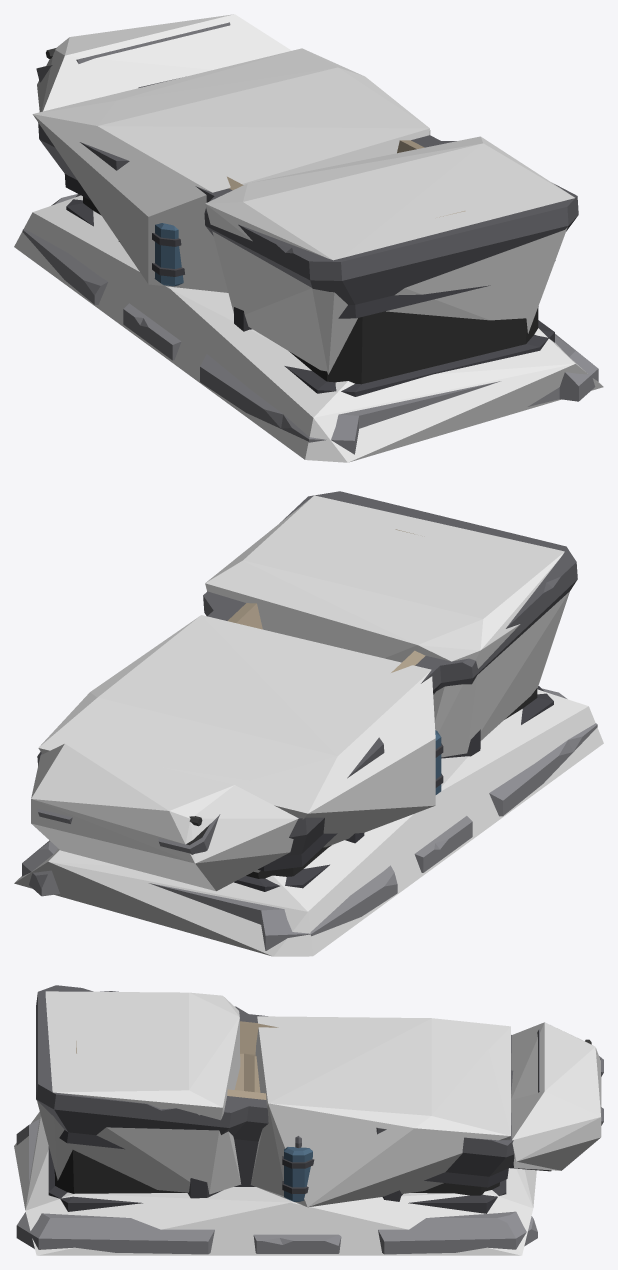
File: SM_Prop_CryoBed_01.fbx
3 views of the same model, one above another, from view 1: azimuth 30°, elevation 25°; view 2: azimuth 150°, elevation 25°; view 3: azimuth 270°, elevation 25° (orthographic). The views are drawn at different scales.
Parts seen in each view (by area): view 1: SM_Prop_CryoBed_01_ConvexHulls, SM_Prop_CryoBed_01_LOD0; view 2: SM_Prop_CryoBed_01_ConvexHulls, SM_Prop_CryoBed_01_LOD0; view 3: SM_Prop_CryoBed_01_ConvexHulls, SM_Prop_CryoBed_01_LOD0.
Boxes of the visible parts, x1,y1,x2,y2 form: SM_Prop_CryoBed_01_ConvexHulls: [14, 14, 603, 462]; SM_Prop_CryoBed_01_LOD0: [22, 22, 598, 454]; SM_Prop_CryoBed_01_ConvexHulls: [14, 495, 603, 956]; SM_Prop_CryoBed_01_LOD0: [22, 491, 597, 950]; SM_Prop_CryoBed_01_ConvexHulls: [14, 991, 601, 1255]; SM_Prop_CryoBed_01_LOD0: [16, 985, 603, 1254].
Bounding box in the file's own units: 348 × 173 × 102.
1 material, 1 textured.
